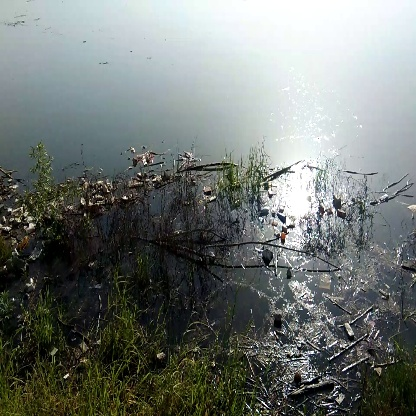branch: (214, 234, 341, 274)
